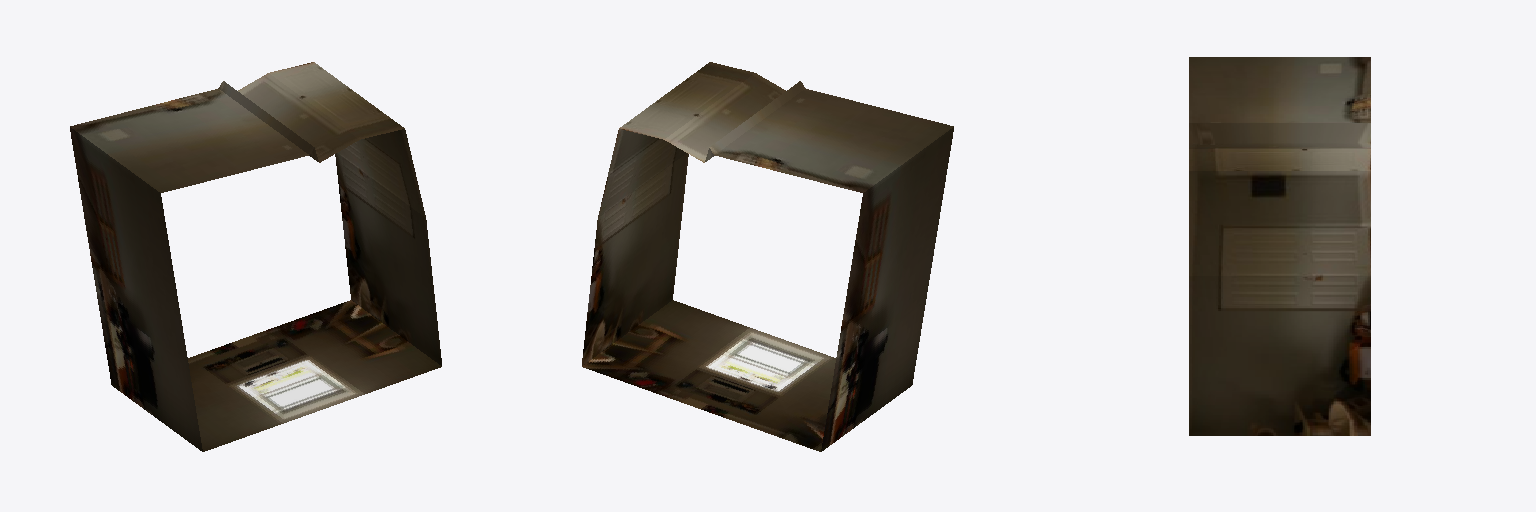
The picture shows the model from 3 angles: view 1: azimuth 30°, elevation 25°; view 2: azimuth 150°, elevation 25°; view 3: azimuth 270°, elevation 25°; orthographic projection.
Bounding box in the file's own units: 5.1 × 4.8 × 2.86.
1 materials, 1 textured.